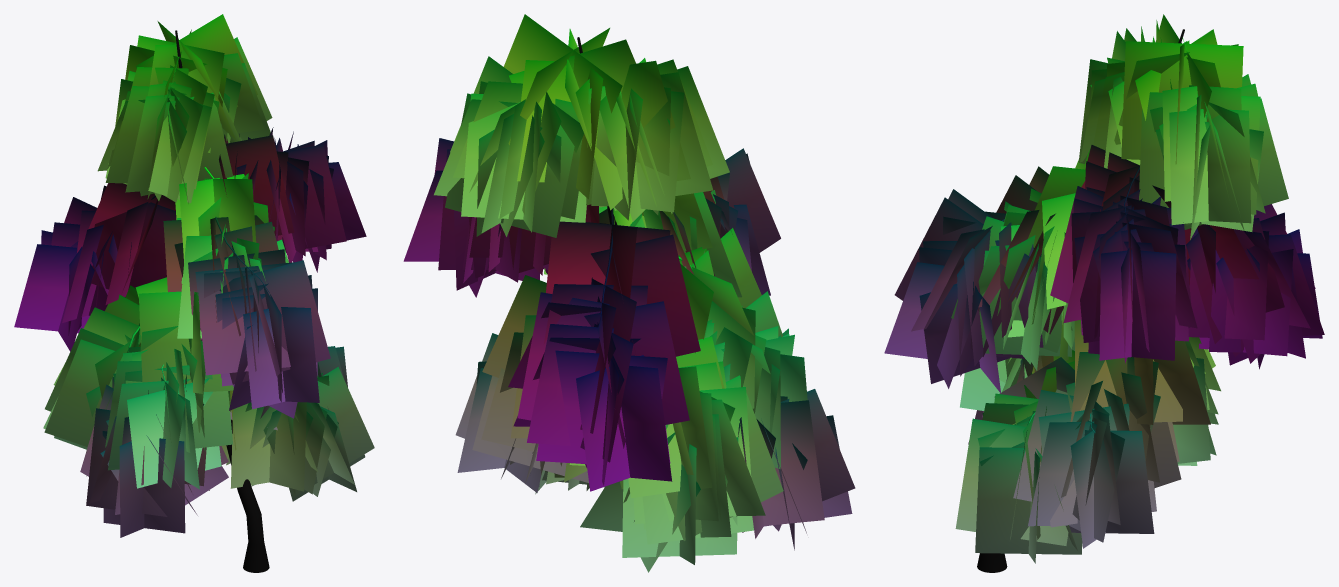
Rendered from URP_P13_Tree_10_LOD_0.fbx.
3 views of the same model, side by side, from view 1: azimuth 30°, elevation 25°; view 2: azimuth 150°, elevation 25°; view 3: azimuth 270°, elevation 25° (orthographic). The views are drawn at different scales.
Visible parts, largest first — view 1: Tree_10_LOD_0; view 2: Tree_10_LOD_0; view 3: Tree_10_LOD_0.
Boxes of the visible parts, x1,y1,x2,y2 form: Tree_10_LOD_0: (14,14,374,572); Tree_10_LOD_0: (403,14,855,572); Tree_10_LOD_0: (884,14,1324,572).
Size of the model in its own units: 371 by 575 by 419.
